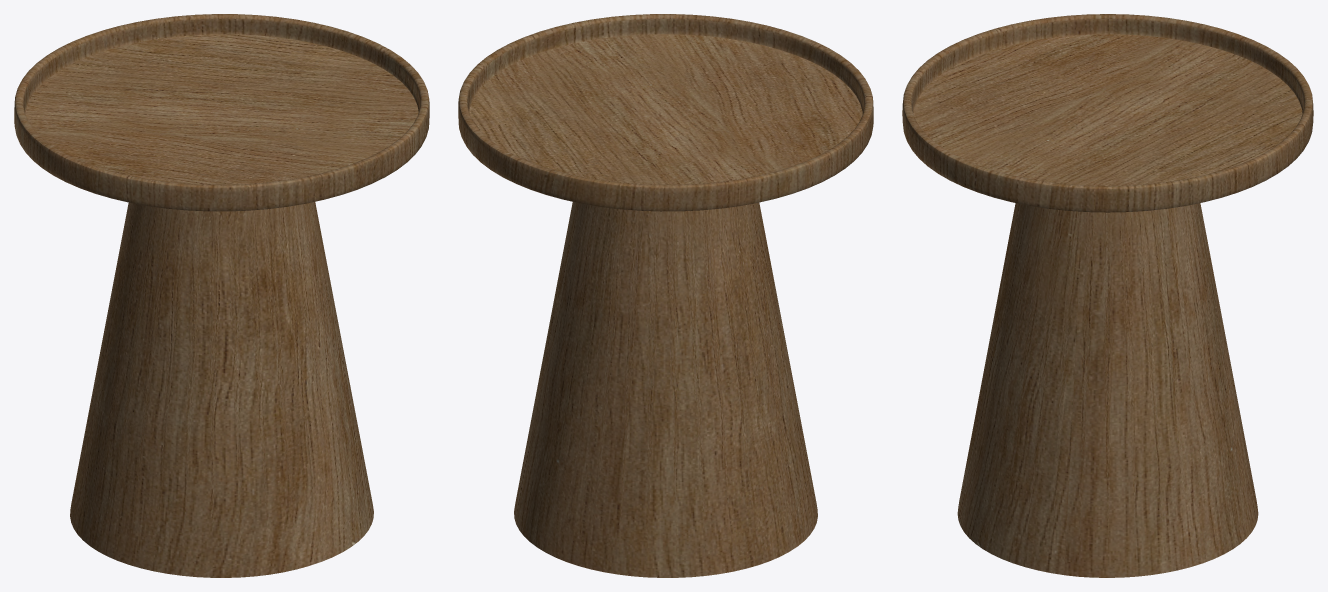
Rendered from minitable.glb.
3 views of the same model, side by side, from view 1: azimuth 30°, elevation 25°; view 2: azimuth 150°, elevation 25°; view 3: azimuth 270°, elevation 25° (orthographic).
Parts seen in each view (by area): view 1: Rondo_side_table; view 2: Rondo_side_table; view 3: Rondo_side_table.
Part boxes in pixels (x1,y1,x2,y2): Rondo_side_table: (14,14,429,577); Rondo_side_table: (458,14,873,577); Rondo_side_table: (902,14,1313,577).
Bounding box in the file's own units: 0.455 × 0.5 × 0.45.
1 material, 1 textured.
